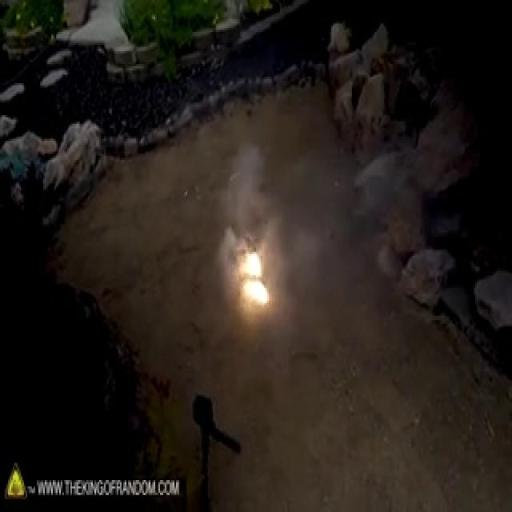smoke: (236, 248, 282, 330)
